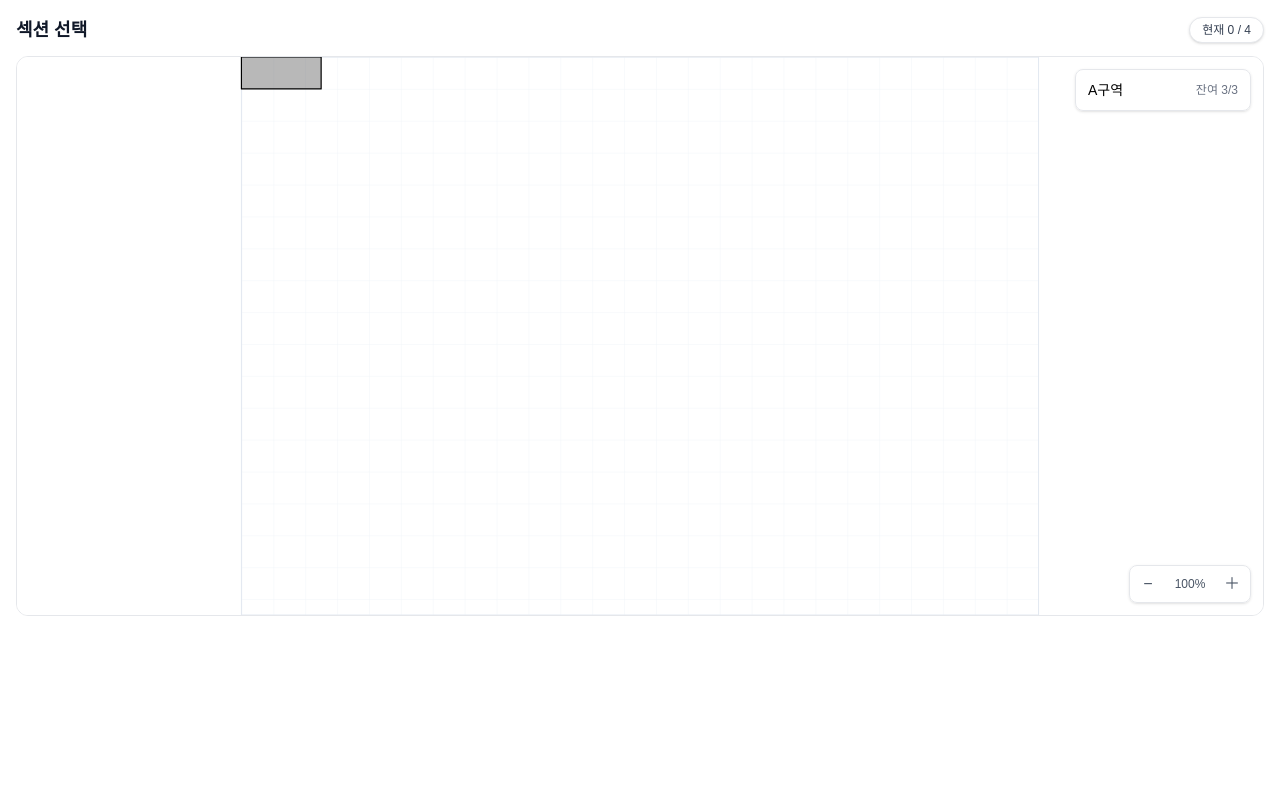
it: 새로고침 버튼은 쿨다운 동안 비활성이고 연타를 무시한다
Check: the text "현재 0 / 4" is shown, box [1189,17,1264,43]
Click the button "A구역 잔여 3/3" at (1163, 90), box [1080,74,1246,106]
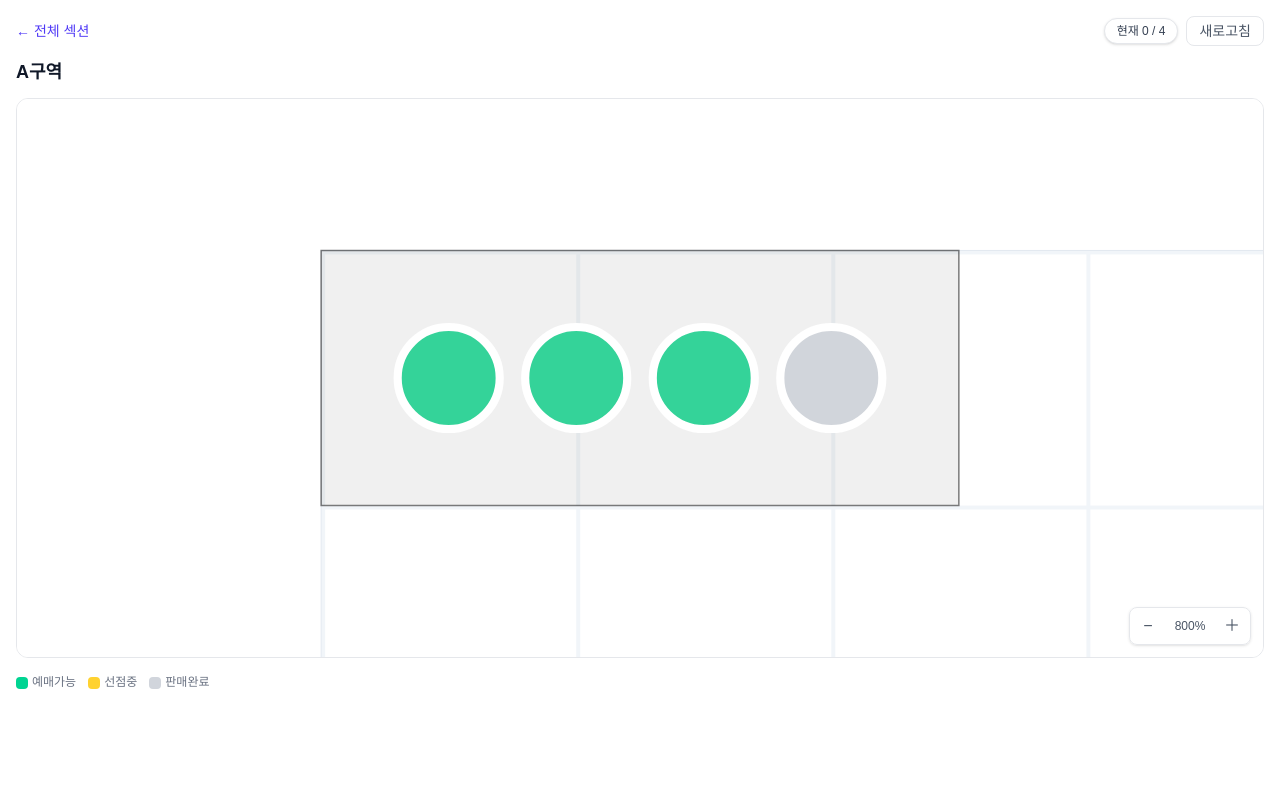
Click the button "새로고침" at (1225, 31), box [1186,16,1264,46]
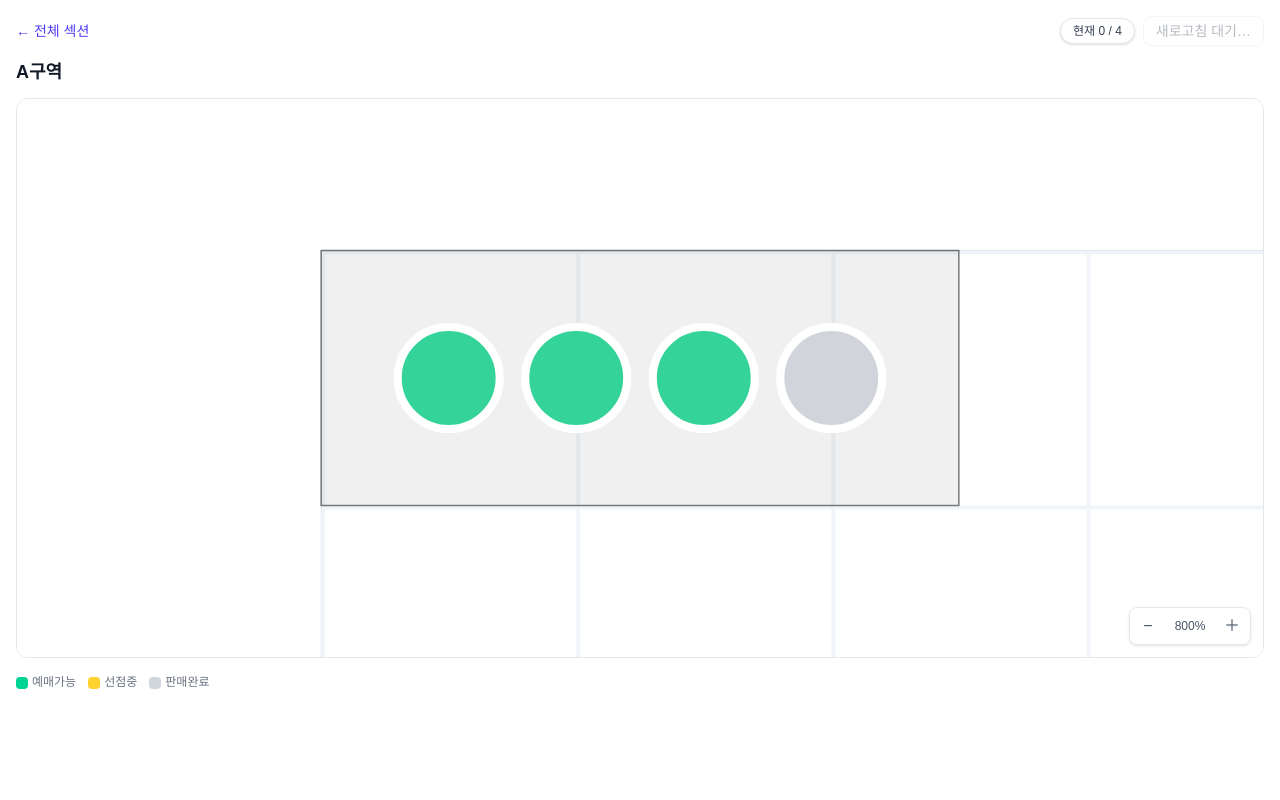
Check: the button "새로고침 대기…" is disabled
Click the button "새로고침 대기…" at (1203, 31), box [1143,16,1264,46]
Wait 3000 ms
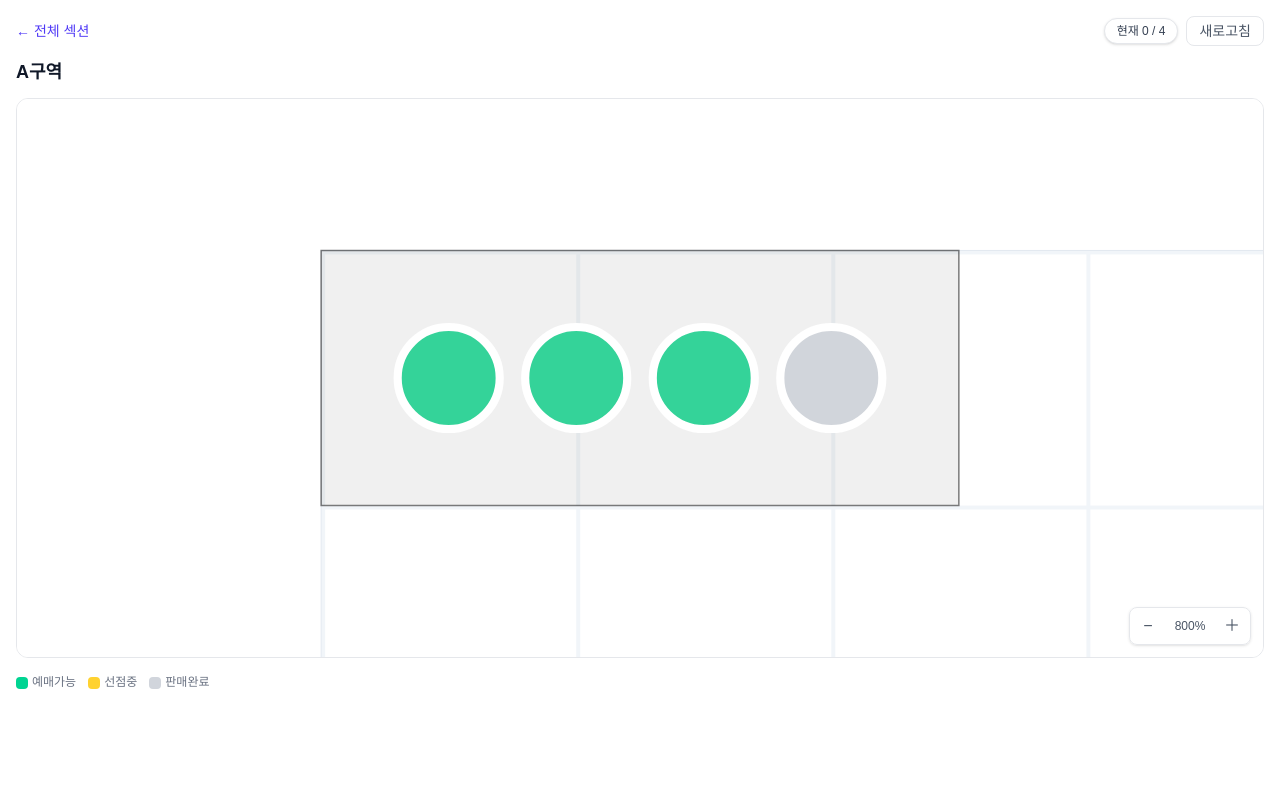
Check: the button "새로고침" is enabled, box [1186,16,1264,46]
